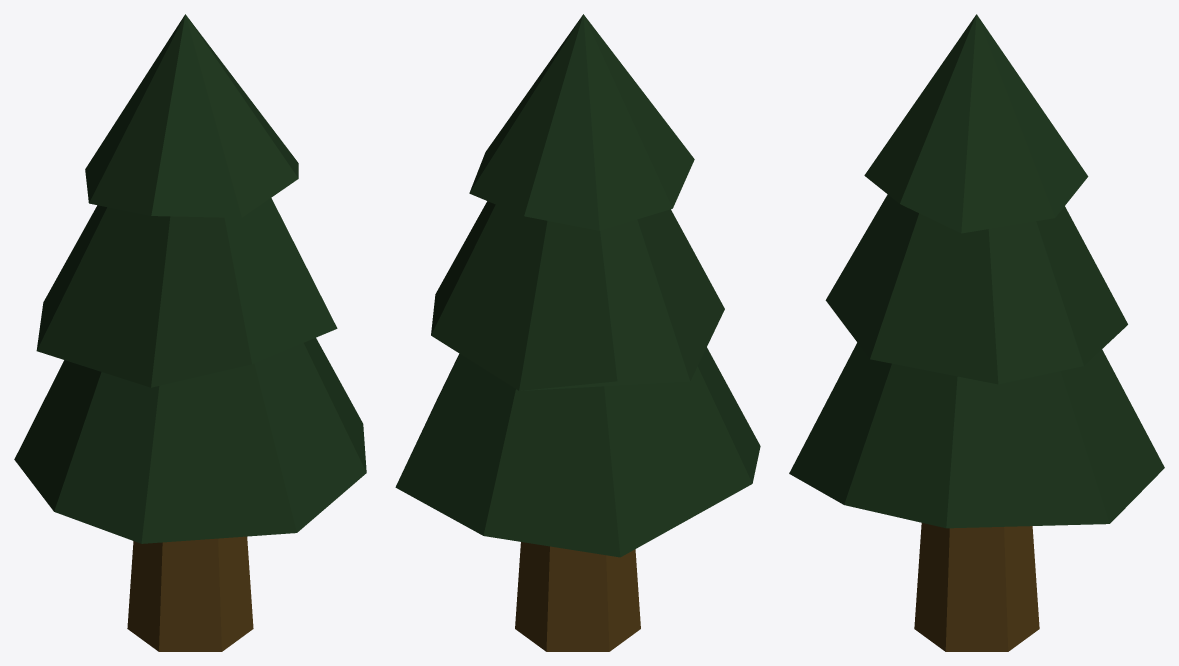
File: Dark Pine Tree.fbx
3 views of the same model, side by side, from view 1: azimuth 30°, elevation 25°; view 2: azimuth 150°, elevation 25°; view 3: azimuth 270°, elevation 25° (orthographic).
Visible parts, largest first — view 1: Pine Tree; view 2: Pine Tree; view 3: Pine Tree.
Part boxes in pixels (<box>): Pine Tree: <box>14,14,366,651</box>; Pine Tree: <box>395,14,760,651</box>; Pine Tree: <box>789,14,1164,651</box>.
Bounding box in the file's own units: 343 × 646 × 359.
